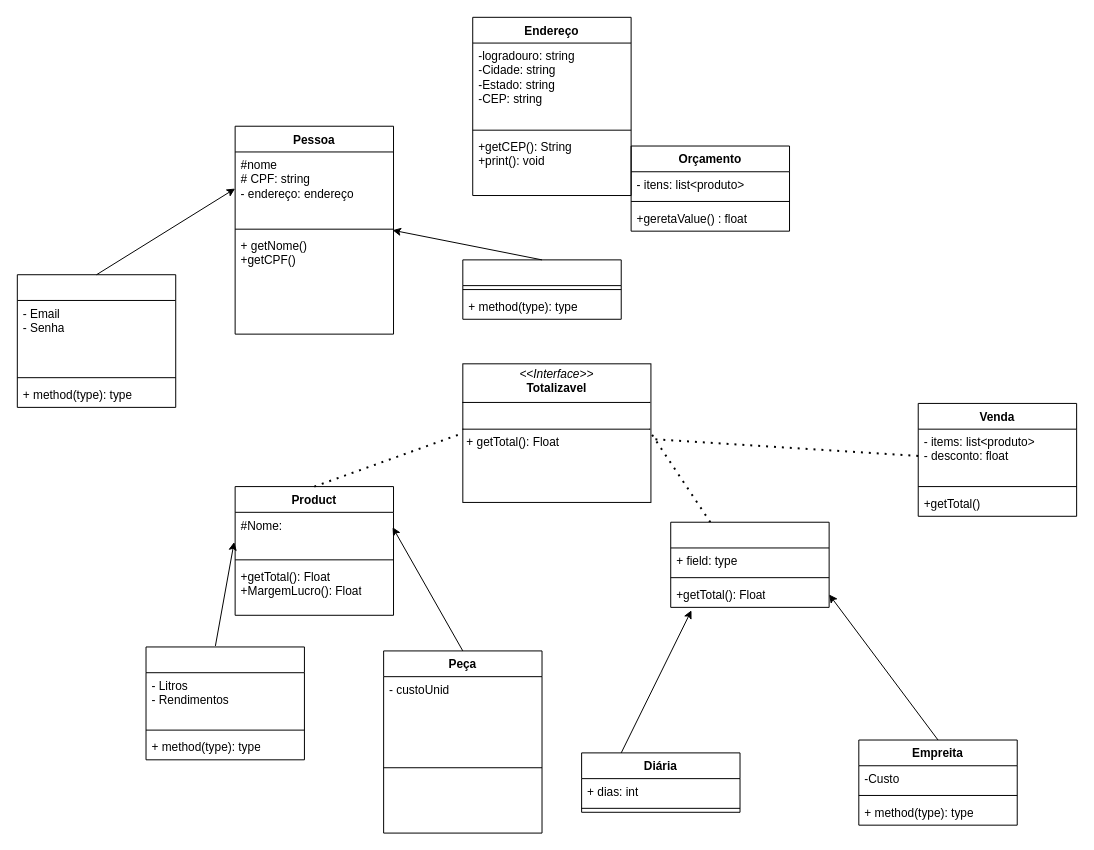
Some shapes in this 1094 by 850 pixel diagram are drawn without their labels. The box of each missing label's shape, as (x1, y1, x2, y2) in pixels:
abs TipoServico: (670, 521, 829, 607)
Cliente: (462, 259, 621, 319)
Prestador: (16, 274, 176, 407)
ProdLíquido: (145, 646, 304, 760)
